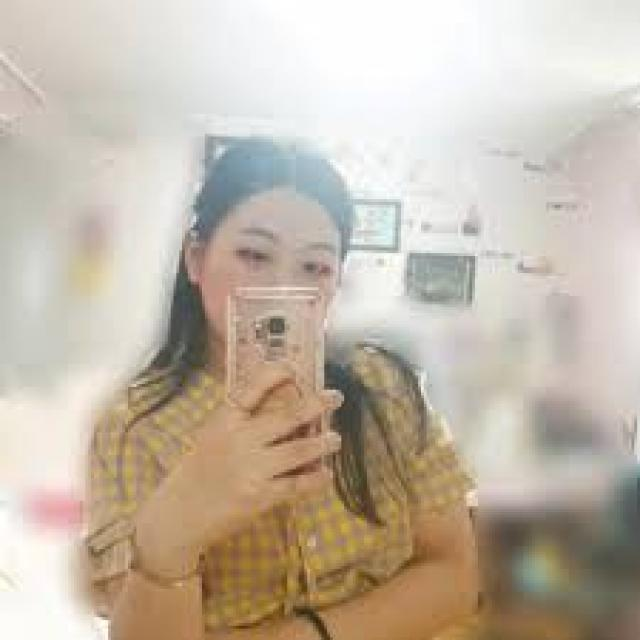Phone: (226, 283, 328, 472)
